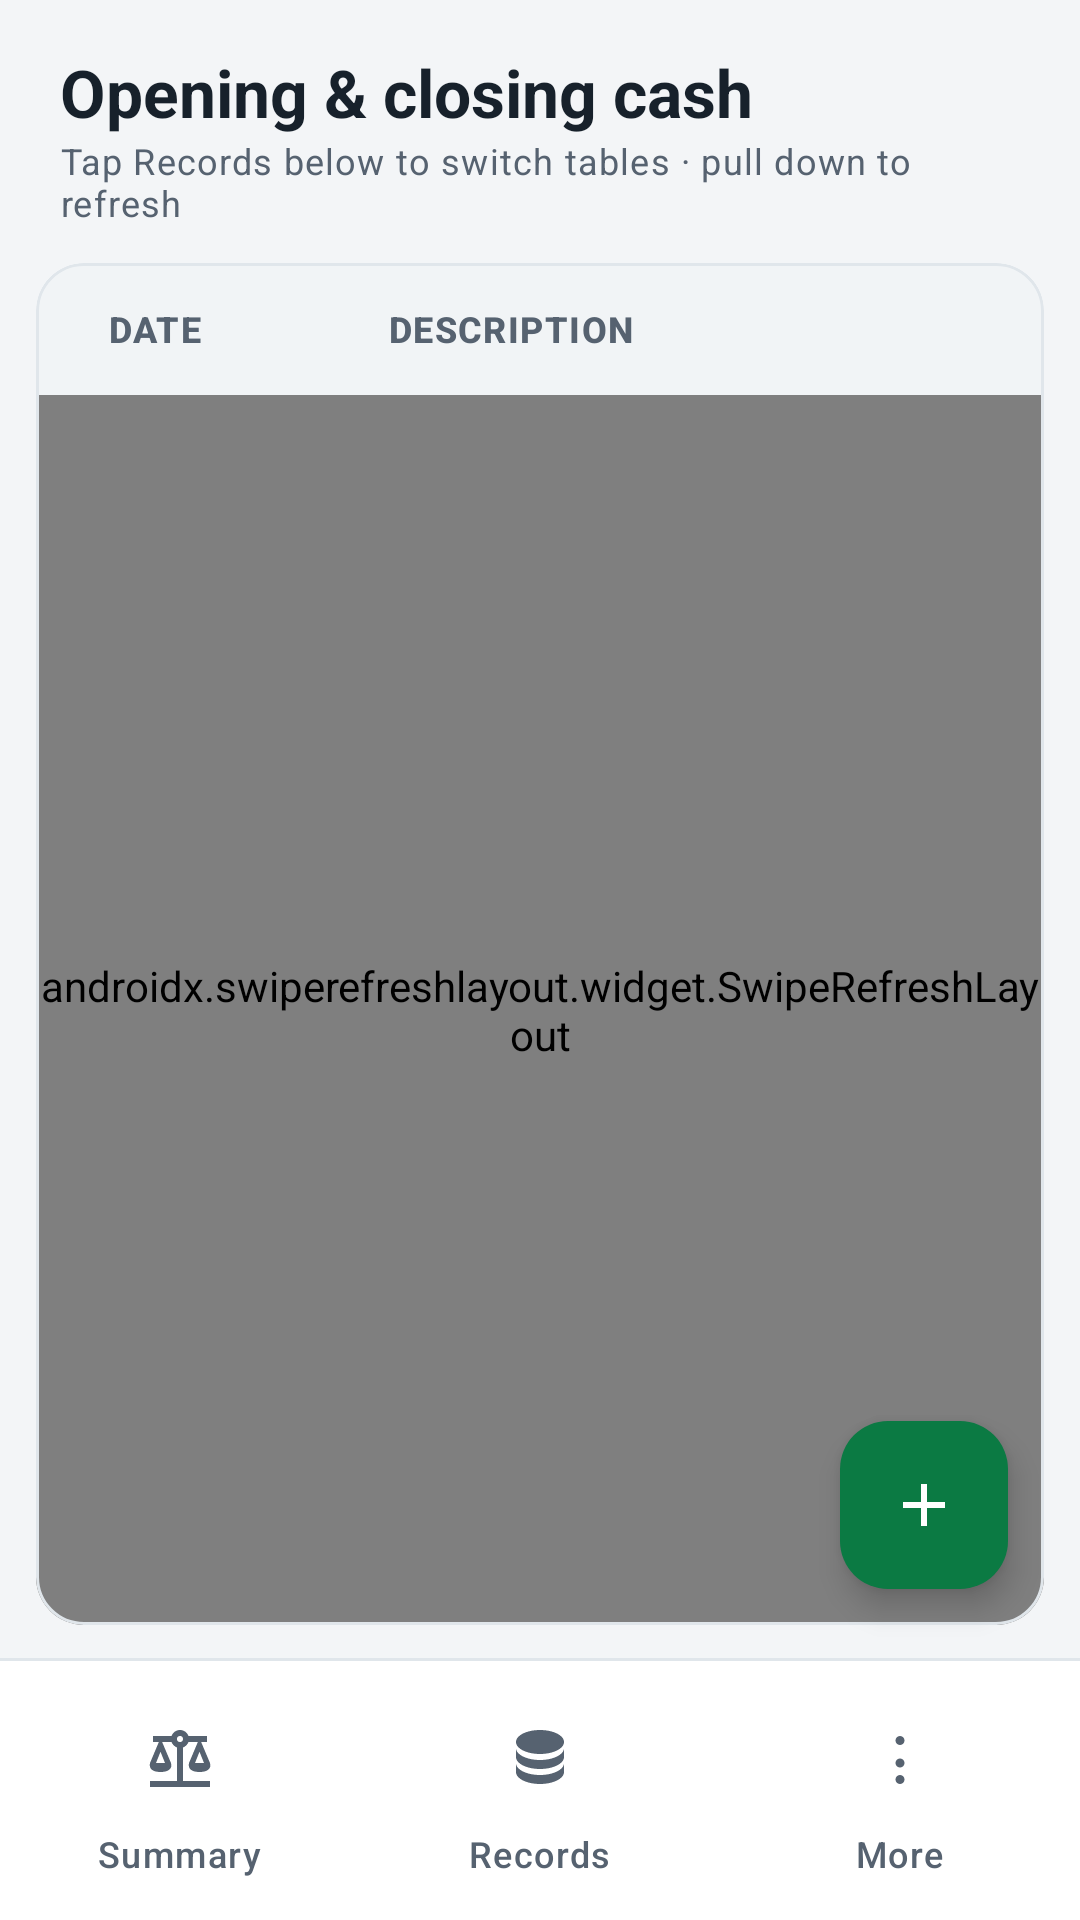

Named icons in this screenshot (1080x1920) and their bounding boxes, [x1=x1, y1=y1, x2=x2, y2=y2]:
Add record: [x1=840, y1=1421, x2=1008, y2=1589]
